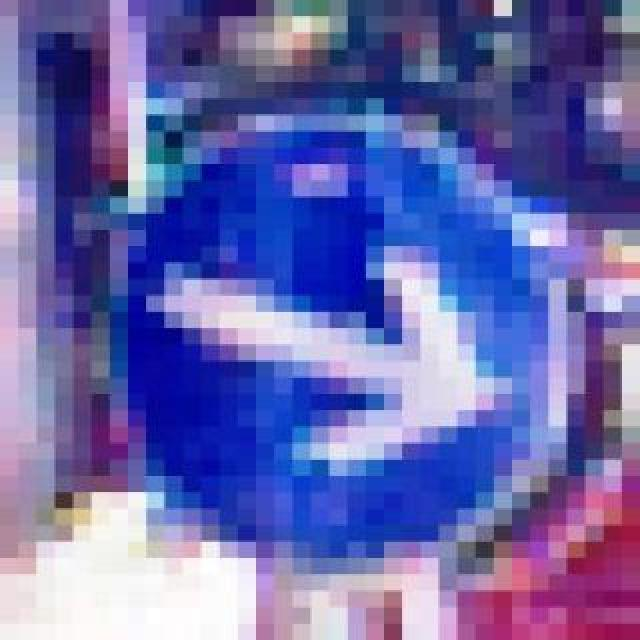keep right: (56, 82, 568, 590)
